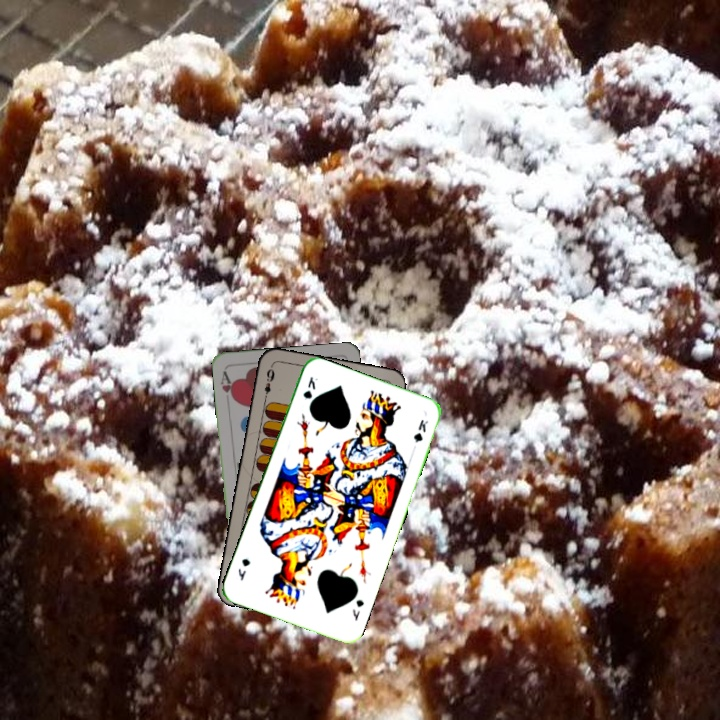E9: (260, 365, 277, 403)
GK: (299, 372, 320, 403), (348, 595, 367, 623)
HA: (216, 367, 237, 404)
